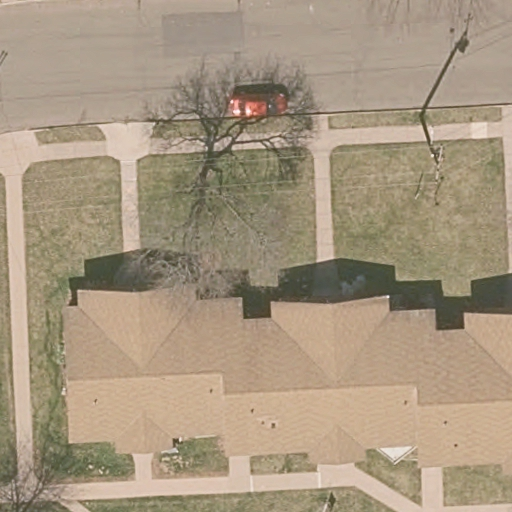DT: (419, 111, 446, 182)
